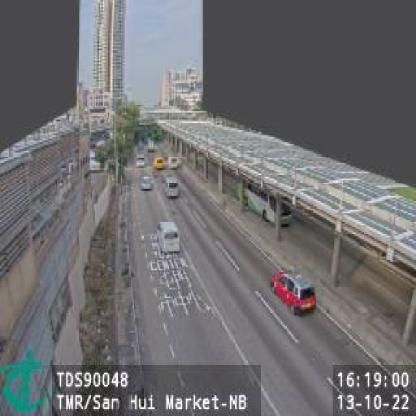Car: (269, 270, 318, 316), (158, 219, 180, 254), (165, 175, 179, 197), (140, 175, 154, 191), (154, 155, 165, 172), (168, 155, 180, 170), (136, 154, 145, 166)
